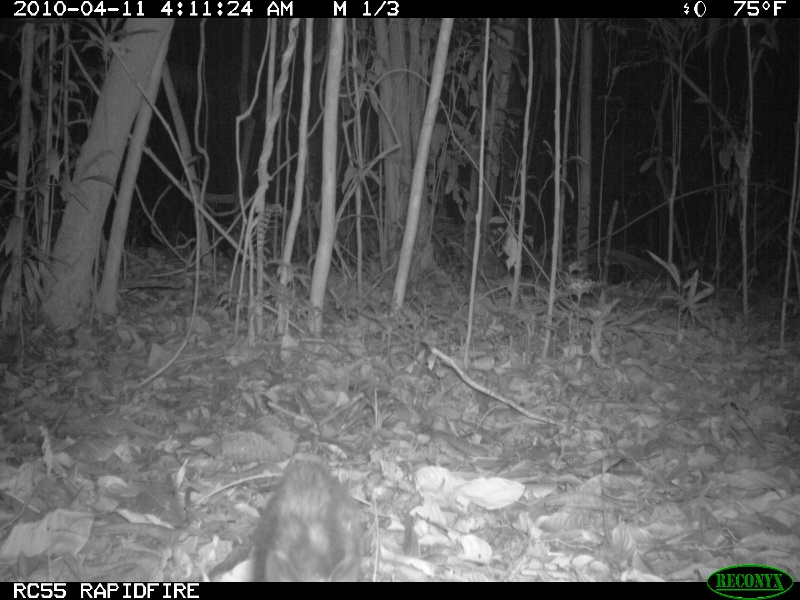opossum: (250, 453, 363, 581)
